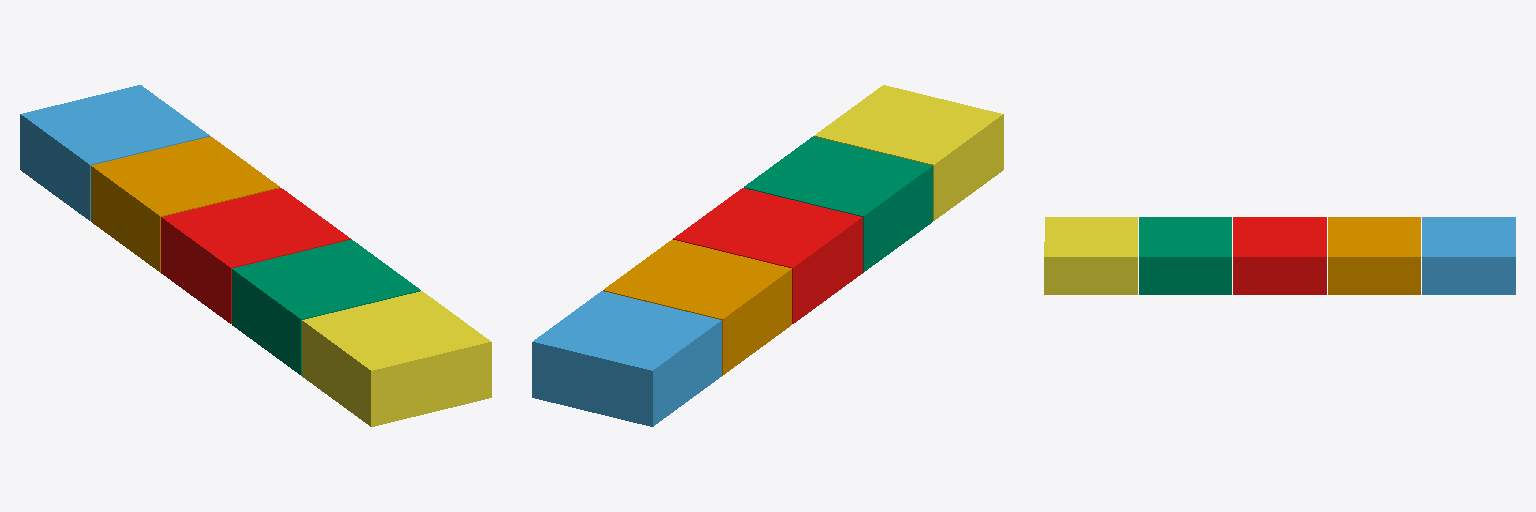
robot.urdf — rob:
<?xml version='1.0' encoding='UTF-8'?>
<robot name="rob">
  <link name="set1_arm1">
    <inertial>
      <origin xyz="0.0 0.34 0.0" rpy="0.0 0.0 0.0"/>
      <mass value="1.0"/>
      <inertia ixx="0.0" ixy="0.0" ixz="0.0" iyy="0.0" iyz="0.0" izz="0.0"/>
    </inertial>
    <visual>
      <geometry>
        <box size="0.67 0.67 0.3 "/>
      </geometry>
      <origin xyz="0.0 0.34 0.0" rpy="0.0 0.0 0.0"/>
    </visual>
    <collision>
      <geometry>
        <box size="0.67 0.67 0.3 "/>
      </geometry>
      <origin xyz="0.0 0.34 0.0" rpy="0.0 0.0 0.0"/>
    </collision>
  </link>
  <link name="set1_arm2">
    <inertial>
      <origin xyz="0.0 0.34 0.0" rpy="0.0 0.0 0.0"/>
      <mass value="1.0"/>
      <inertia ixx="0.0" ixy="0.0" ixz="0.0" iyy="0.0" iyz="0.0" izz="0.0"/>
    </inertial>
    <visual>
      <geometry>
        <box size="0.67 0.67 0.3 "/>
      </geometry>
      <origin xyz="0.0 0.34 0.0" rpy="0.0 0.0 0.0"/>
    </visual>
    <collision>
      <geometry>
        <box size="0.67 0.67 0.3 "/>
      </geometry>
      <origin xyz="0.0 0.34 0.0" rpy="0.0 0.0 0.0"/>
    </collision>
  </link>
  <link name="set2_arm1">
    <inertial>
      <origin xyz="0.0 0.34 0.0" rpy="0.0 0.0 0.0"/>
      <mass value="1.0"/>
      <inertia ixx="0.0" ixy="0.0" ixz="0.0" iyy="0.0" iyz="0.0" izz="0.0"/>
    </inertial>
    <visual>
      <geometry>
        <box size="0.67 0.67 0.3 "/>
      </geometry>
      <origin xyz="0.0 0.34 0.0" rpy="0.0 0.0 0.0"/>
    </visual>
    <collision>
      <geometry>
        <box size="0.67 0.67 0.3 "/>
      </geometry>
      <origin xyz="0.0 0.34 0.0" rpy="0.0 0.0 0.0"/>
    </collision>
  </link>
  <link name="set2_arm2">
    <inertial>
      <origin xyz="0.0 0.34 0.0" rpy="0.0 0.0 0.0"/>
      <mass value="1.0"/>
      <inertia ixx="0.0" ixy="0.0" ixz="0.0" iyy="0.0" iyz="0.0" izz="0.0"/>
    </inertial>
    <visual>
      <geometry>
        <box size="0.67 0.67 0.3 "/>
      </geometry>
      <origin xyz="0.0 0.34 0.0" rpy="0.0 0.0 0.0"/>
    </visual>
    <collision>
      <geometry>
        <box size="0.67 0.67 0.3 "/>
      </geometry>
      <origin xyz="0.0 0.34 0.0" rpy="0.0 0.0 0.0"/>
    </collision>
  </link>
  <link name="base_link">
    <inertial>
      <origin xyz="0.0 0.0 0.0" rpy="0.0 -0.0 0.0"/>
      <mass value="1.0"/>
      <inertia ixx="1.0" ixy="0.0" ixz="0.0" iyy="1.0" iyz="0.0" izz="1.0"/>
    </inertial>
    <visual>
      <geometry>
        <box size="0.67 0.67 0.3 "/>
      </geometry>
      <material name="red"/>
      <origin xyz="0.0 0.0 0.0" rpy="0.0 -0.0 0.0"/>
    </visual>
    <collision>
      <geometry>
        <box size="0.67 0.67 0.3 "/>
      </geometry>
      <origin xyz="0.0 0.0 0.0" rpy="0.0 0.0 0.0"/>
    </collision>
  </link>
  <joint name="set1_jointBase" type="fixed">
    <limit effort="1.57" velocity="1.57" lower="-1.57" upper="1.57"/>
    <parent link="base_link"/>
    <child link="set1_arm1"/>
    <axis xyz="1. 0. 0."/>
    <origin xyz="0.0 0.34 0.0" rpy="0.0 0.0 0.0"/>
  </joint>
  <joint name="set1_joint1" type="revolute">
    <limit effort="1.57" velocity="1.57" lower="-1.57" upper="1.57"/>
    <parent link="set1_arm1"/>
    <child link="set1_arm2"/>
    <axis xyz="1. 0. 0."/>
    <origin xyz="0.0 0.68 0.0" rpy="0.0 0.0 0.0"/>
  </joint>
  <joint name="set2_jointBase" type="fixed">
    <limit effort="1.57" velocity="1.57" lower="-1.57" upper="1.57"/>
    <parent link="base_link"/>
    <child link="set2_arm1"/>
    <axis xyz="1. 0. 0."/>
    <origin xyz="0.0 -0.34 0.0" rpy="0.0 0.0 3.141"/>
  </joint>
  <joint name="set2_joint1" type="revolute">
    <limit effort="1.57" velocity="1.57" lower="-1.57" upper="1.57"/>
    <parent link="set2_arm1"/>
    <child link="set2_arm2"/>
    <axis xyz="1. 0. 0."/>
    <origin xyz="0.0 0.68 0.0" rpy="0.0 0.0 0.0"/>
  </joint>
  <material name="red">
    <color rgba="0.969 0.129 0.122 1.   "/>
  </material>
</robot>

--- Facts derived from the render (not from the file) ---
The picture shows the robot from 3 angles, left to right: view 1: azimuth 30°, elevation 25°; view 2: azimuth 150°, elevation 25°; view 3: azimuth 270°, elevation 25°; orthographic projection.
Robot: rob — 5 links, 4 joints (2 revolute, 2 fixed); root link base_link; default pose: every joint at zero.
Visible links, largest first — view 1: set2_arm2, set1_arm2, base_link, set2_arm1, set1_arm1; view 2: set1_arm2, set2_arm2, base_link, set1_arm1, set2_arm1; view 3: set1_arm2, base_link, set2_arm2, set1_arm1, set2_arm1.
Link boxes in pixels (bbox=[...]): set2_arm2: bbox=[302, 291, 491, 426]; set1_arm2: bbox=[20, 85, 209, 220]; base_link: bbox=[161, 188, 350, 323]; set2_arm1: bbox=[232, 239, 420, 375]; set1_arm1: bbox=[91, 136, 279, 272]; set1_arm2: bbox=[532, 291, 721, 426]; set2_arm2: bbox=[814, 85, 1003, 220]; base_link: bbox=[673, 188, 862, 323]; set1_arm1: bbox=[603, 239, 791, 375]; set2_arm1: bbox=[744, 136, 932, 272]; set1_arm2: bbox=[1422, 217, 1515, 294]; base_link: bbox=[1233, 217, 1326, 294]; set2_arm2: bbox=[1044, 217, 1137, 294]; set1_arm1: bbox=[1328, 217, 1420, 294]; set2_arm1: bbox=[1139, 217, 1231, 294].
Size in the robot's own frame: 0.6708 by 3.39 by 0.3 metres.
Geometry: primitives only (box / cylinder / sphere), no mesh files.